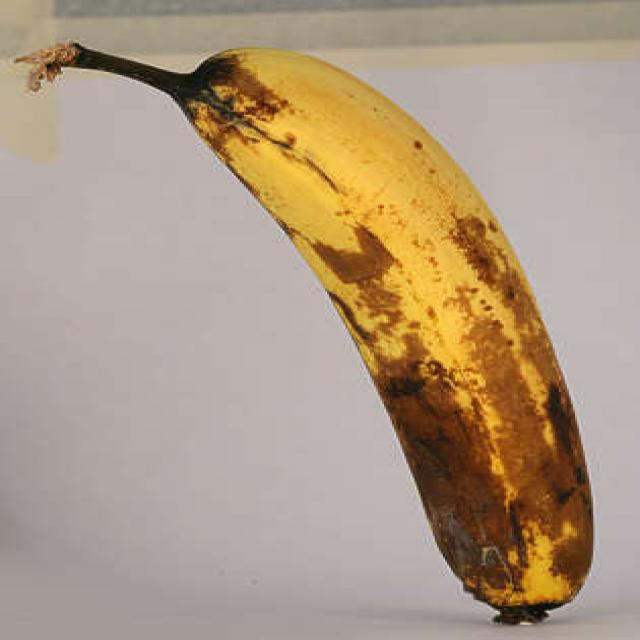Banana: (15, 31, 590, 625)
